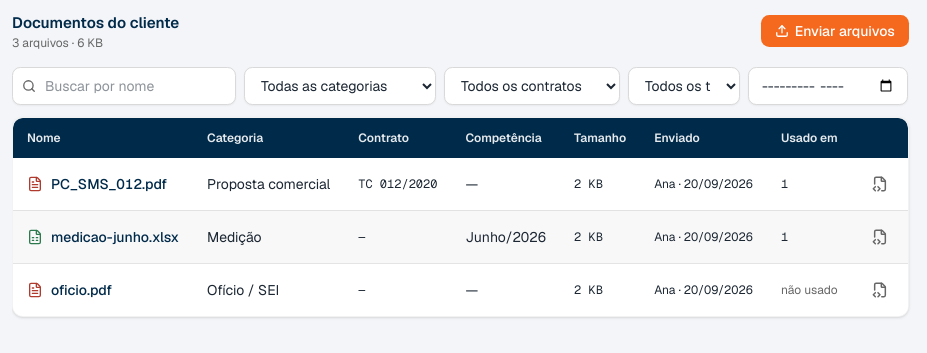
Test: AbaDocumentos › "Enviar arquivos" abre o envio
Click the button "Enviar arquivos".
click(835, 31)  # box top-left (761, 15), bottom-right (909, 47)
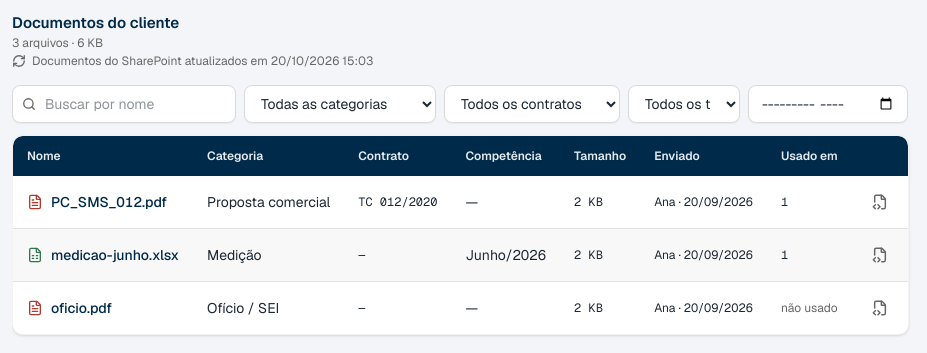
Expected: the button "Enviar arquivos" is gone
